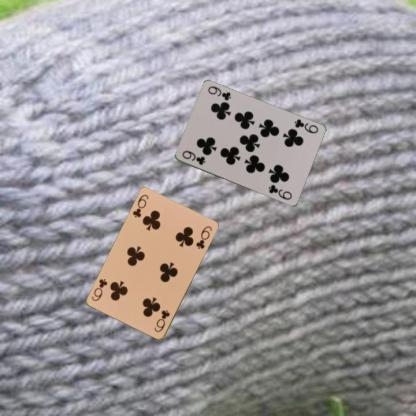6c: (130, 192, 150, 220), (151, 308, 171, 334)
9c: (179, 148, 206, 166), (291, 116, 318, 134)
